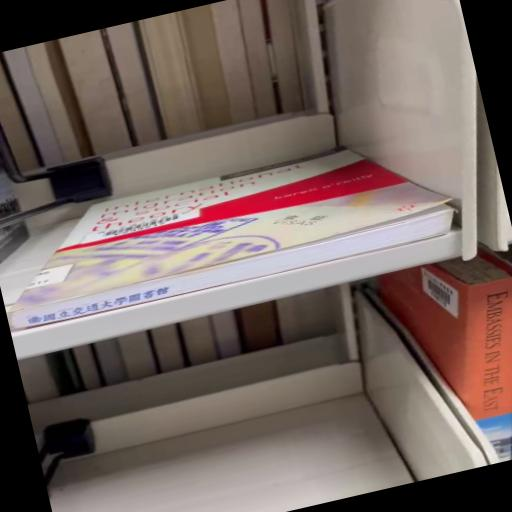flat: (10, 148, 453, 328)
